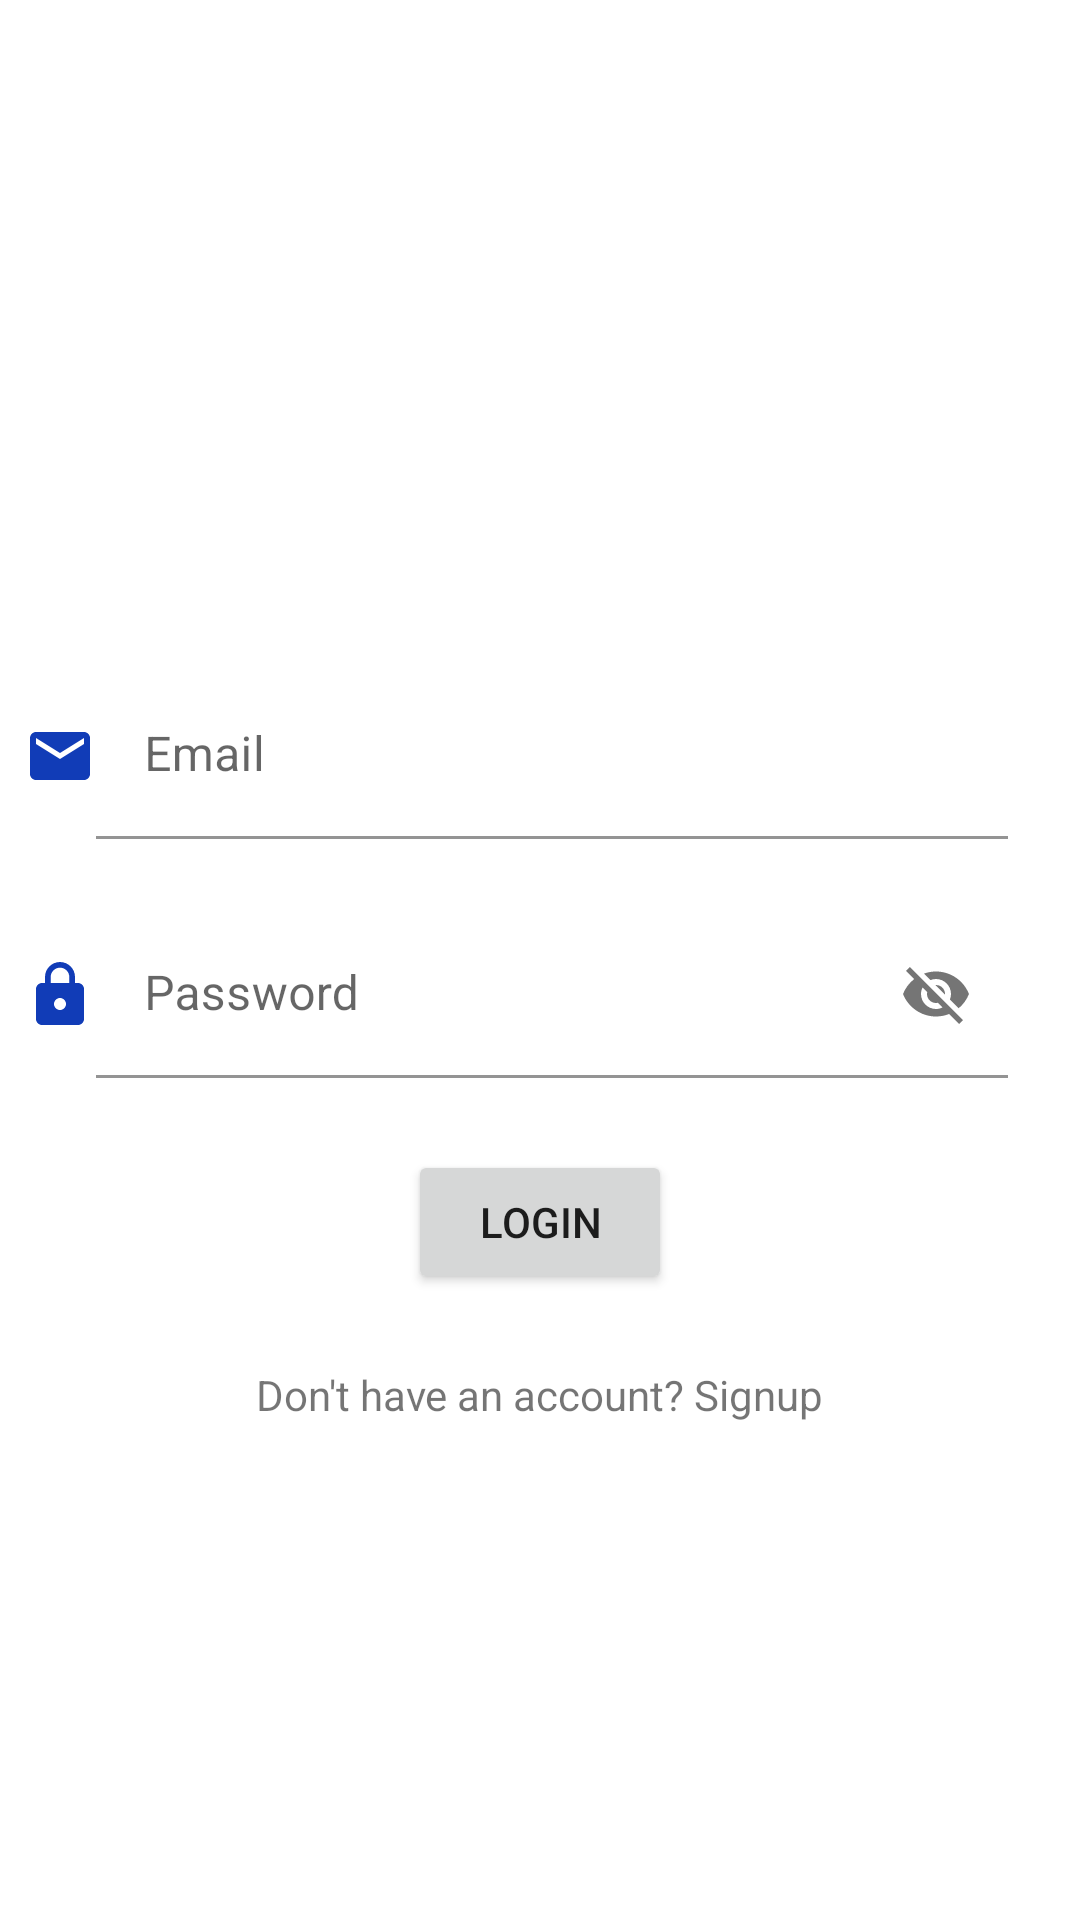

Named icons in this screenshot (1080 x 1920) and their bounding boxes, (x1, y1, x2, y2):
lock: (36, 962, 84, 1025)
